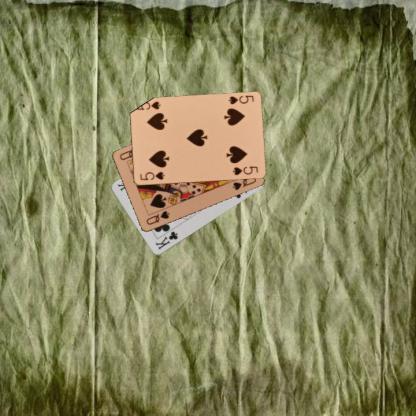5s: (225, 93, 254, 106), (137, 170, 166, 182)
Kc: (153, 229, 179, 251)
Qs: (144, 208, 170, 226)
